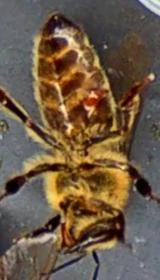varroa_mite: (68, 82, 107, 125)
